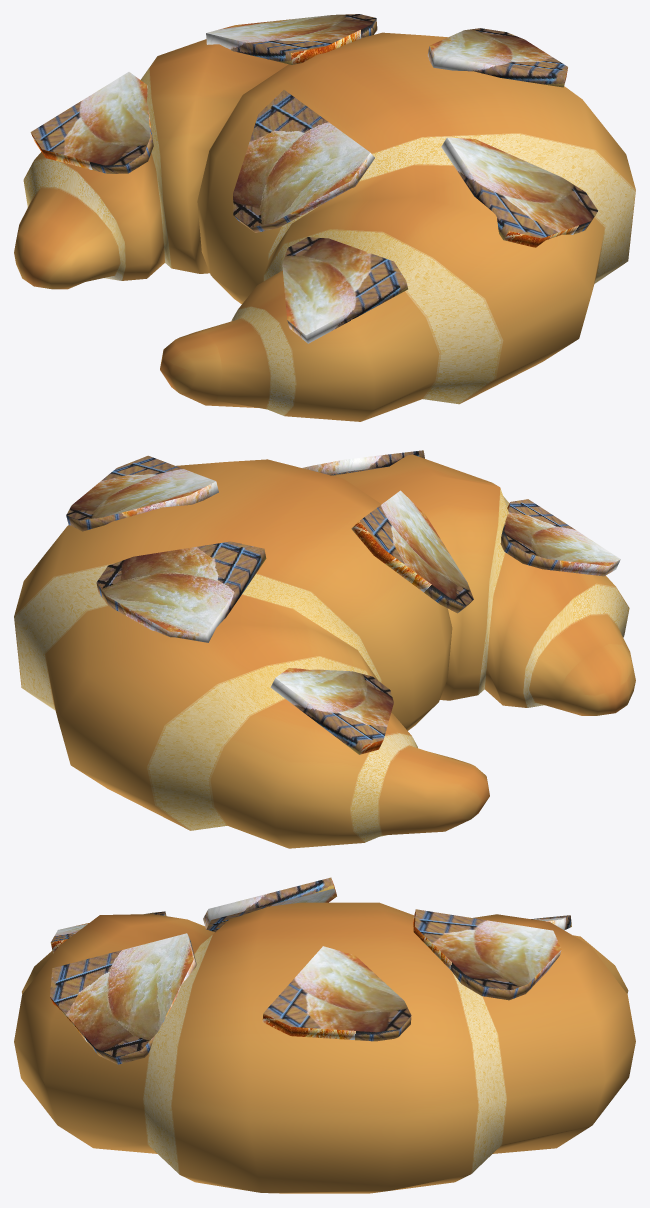
The model's file is croissantStrawberry.gltf.
The picture shows the model from 3 angles, top to bottom: view 1: azimuth 30°, elevation 25°; view 2: azimuth 150°, elevation 25°; view 3: azimuth 270°, elevation 25°; orthographic projection. The views are drawn at different scales.
Visible parts, largest first — view 1: Strawberry.001; view 2: Strawberry.001; view 3: Strawberry.001.
Part boxes in pixels (x1,y1,x2,y2): Strawberry.001: (14, 14, 635, 421); Strawberry.001: (14, 450, 635, 848); Strawberry.001: (14, 877, 635, 1193).
Size of the model in its own units: 1.39 by 0.5828 by 1.58.
